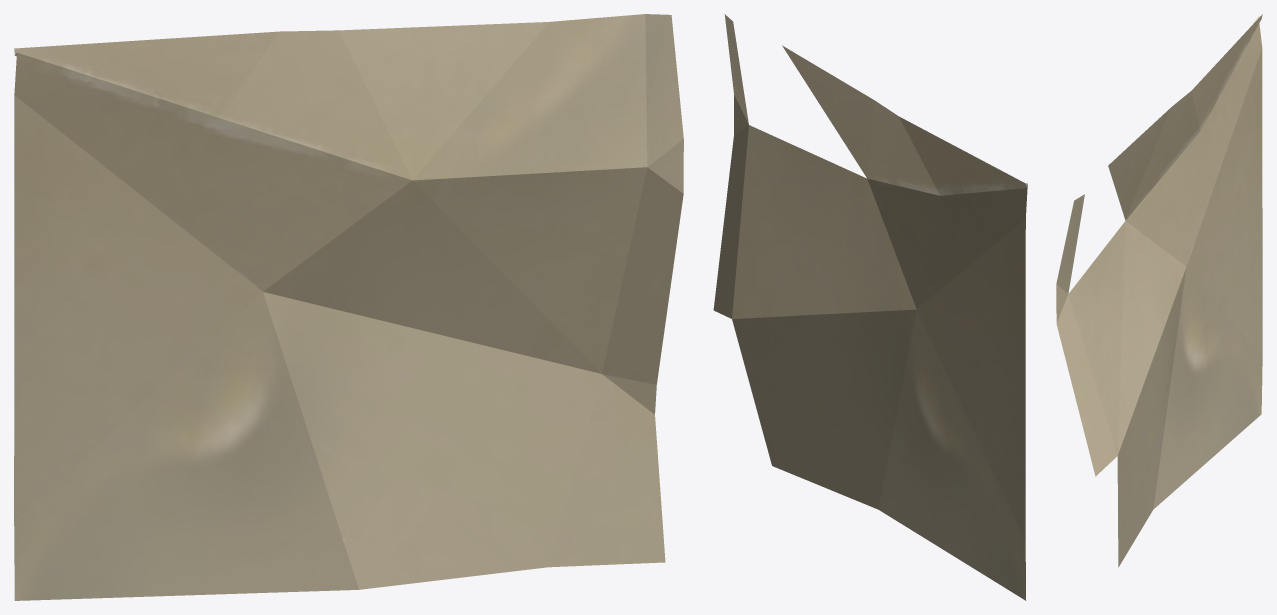
3 renders of one model, left to right at view 1: azimuth 30°, elevation 25°; view 2: azimuth 150°, elevation 25°; view 3: azimuth 270°, elevation 25°, orthographic. The views are drawn at different scales.
Bounding box in the file's own units: 0.8373 × 0.8374 × 0.3912.
3 materials, 3 textured.
